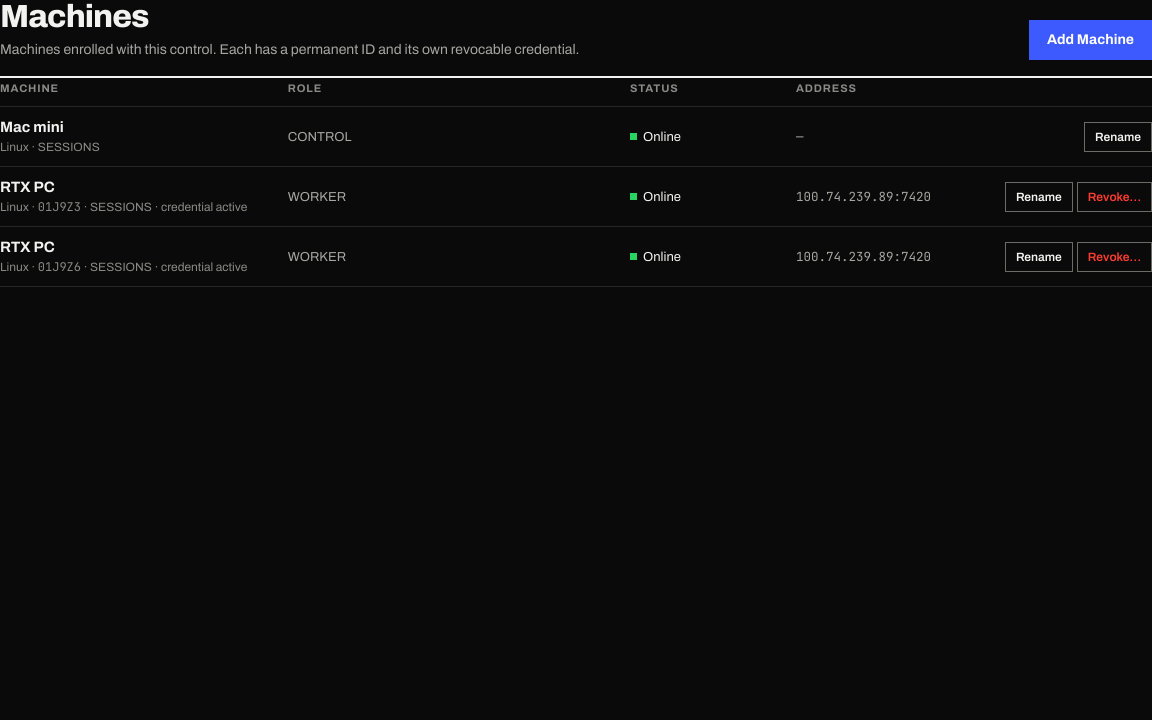
it: MachinesTab (control registry) › cancelling the dialog cancels the outstanding code
Click the button "Add Machine". click: x=1090, y=40
box: [1029,20,1151,60]
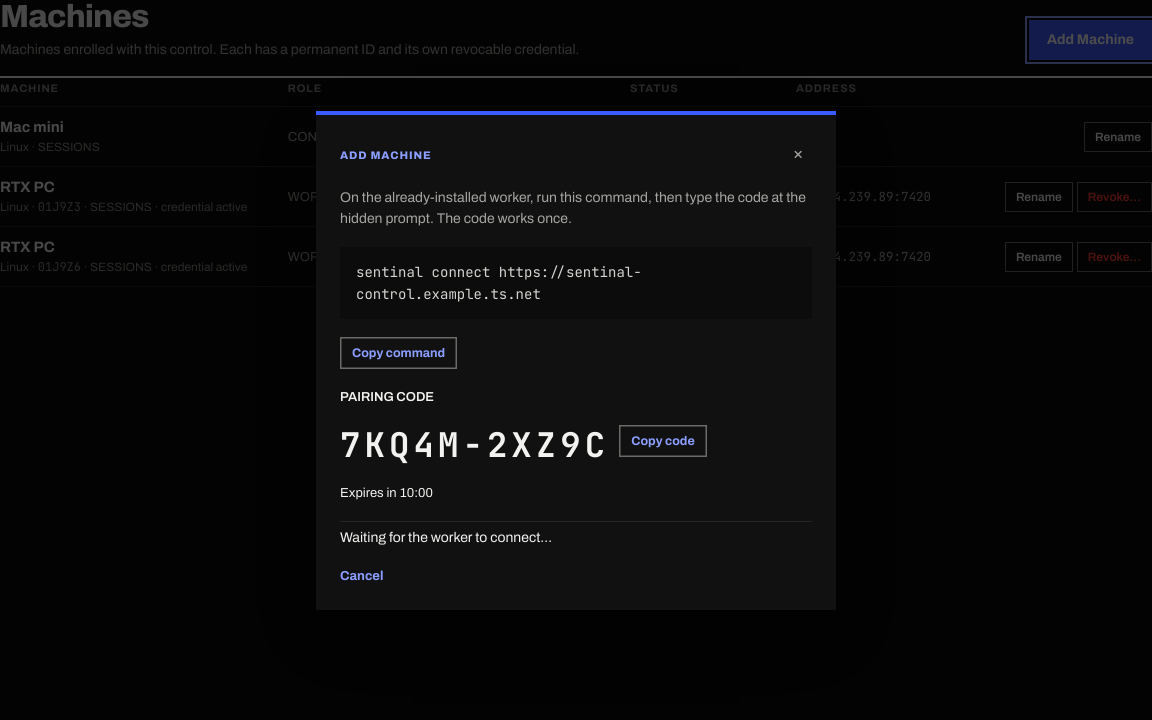
expect the text "7KQ4M-2XZ9C" is shown: met, box [340,424,609,464]
Click the button "Cancel". click: x=362, y=576
box: [340,566,383,586]
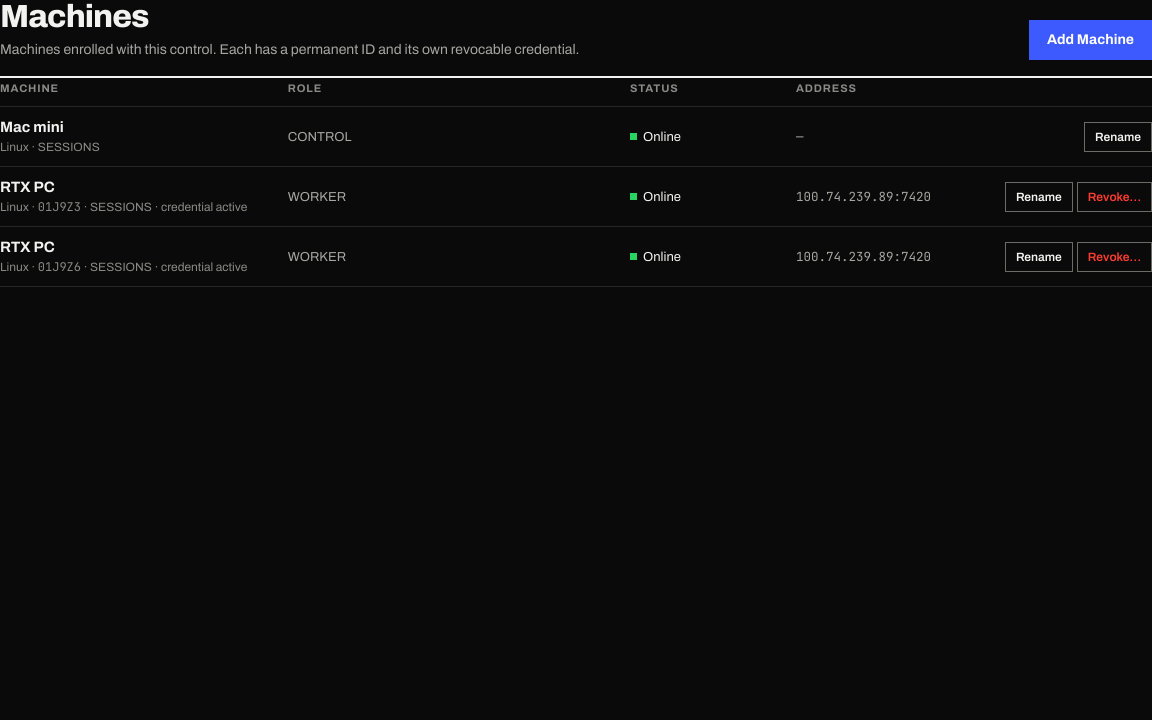
expect the dialog is gone: met
